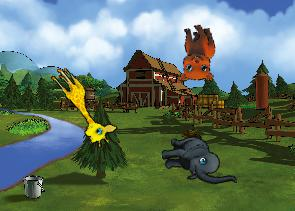bear: (169, 21, 221, 86)
elephant: (158, 128, 237, 196)
giraffe: (40, 63, 121, 151)
